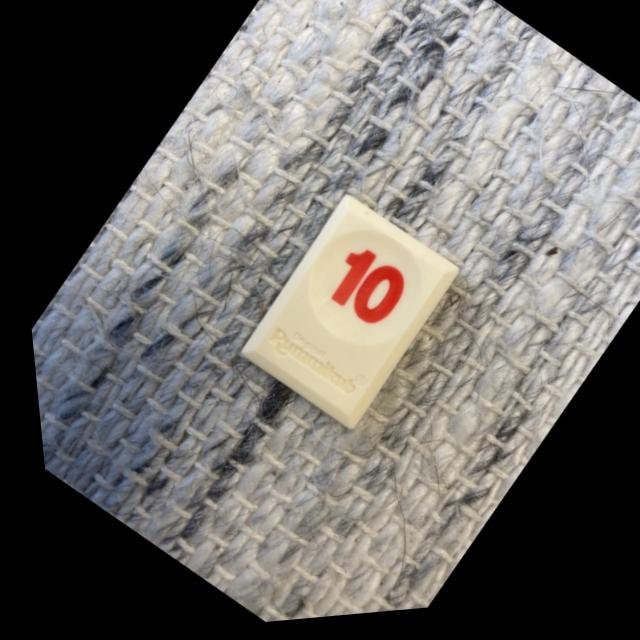red_10: (234, 202, 451, 434)
